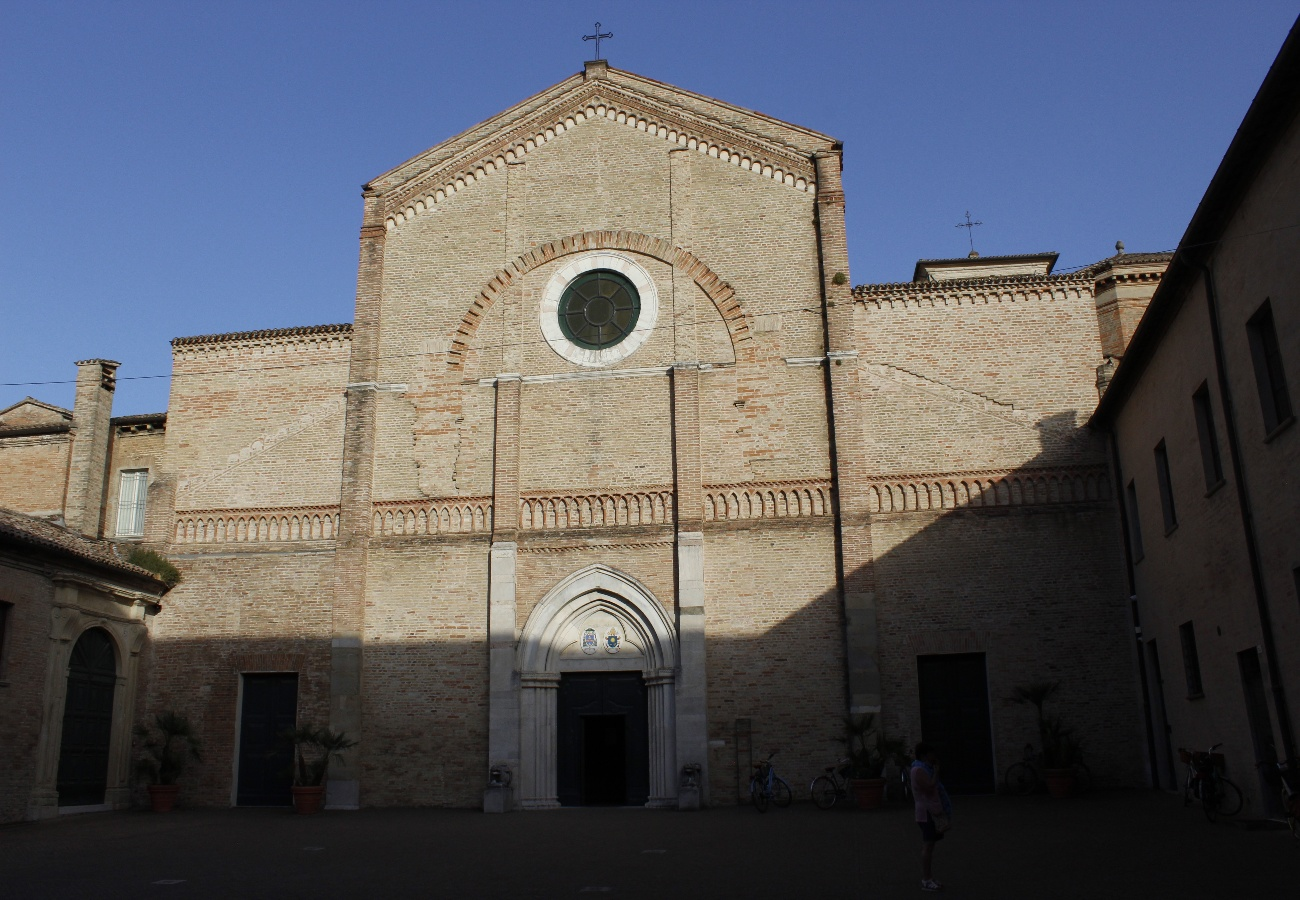Cattedrale Santa Maria Assunta: (158, 1, 1124, 832)
